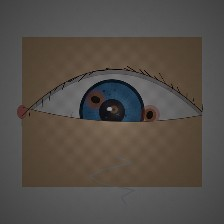foreign_body_visible: (128, 98, 171, 132)
